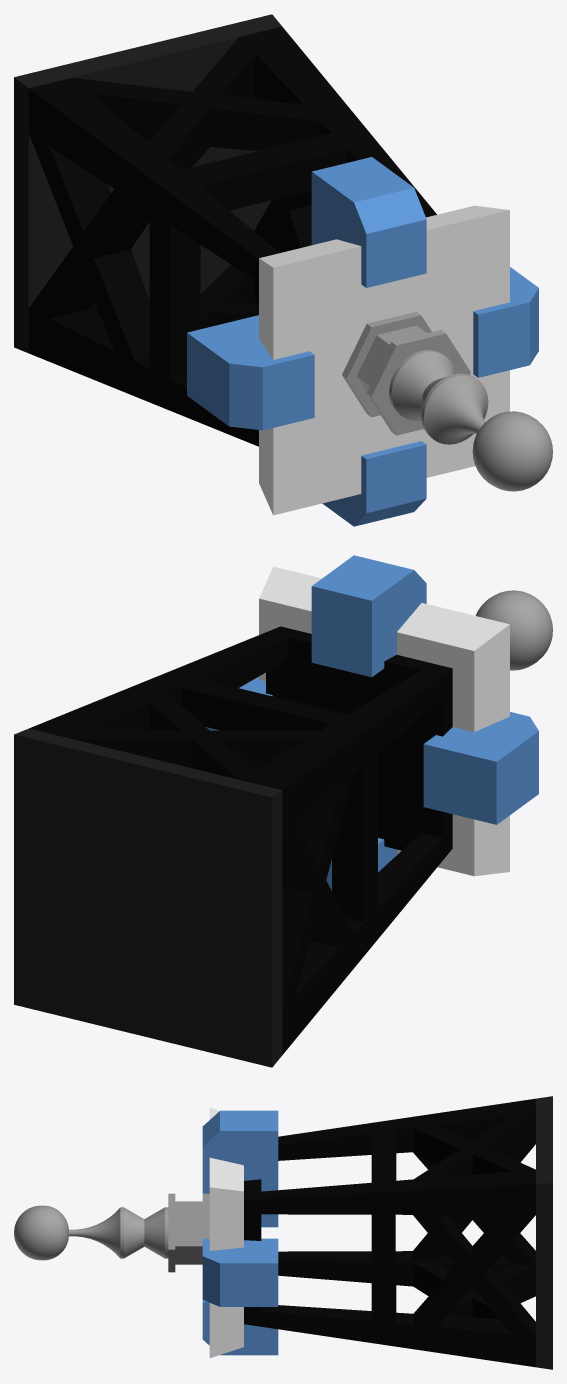
Rendered from Electric Tower V2.fbx.
The picture shows the model from 3 angles, top to bottom: view 1: azimuth 30°, elevation 25°; view 2: azimuth 150°, elevation 25°; view 3: azimuth 270°, elevation 25°; orthographic projection. The views are drawn at different scales.
Visible parts, largest first — view 1: Body1, Body2, Body17, Body8, Body10, Body12, Body13, Body11; view 2: Body17, Body1, Body2, Body10, Body12, Body8; view 3: Body1, Body8, Body11, Body2, Body10, Body17, Body13, Body12.
Boxes of the visible parts, box(x1,y1,x2,y2) form: Body1: box(28, 26, 436, 446); Body2: box(259, 205, 509, 515); Body17: box(14, 14, 281, 353); Body8: box(342, 311, 552, 491); Body10: box(311, 157, 426, 287); Body12: box(187, 315, 314, 430); Body13: box(322, 441, 426, 526); Body11: box(473, 267, 538, 377); Body17: box(14, 728, 282, 1067); Body1: box(29, 626, 452, 1054); Body2: box(259, 566, 509, 876); Body10: box(311, 555, 426, 677); Body12: box(423, 712, 538, 824); Body8: box(475, 590, 552, 670); Body1: box(244, 1098, 535, 1367); Body8: box(14, 1193, 209, 1272); Body11: box(202, 1238, 278, 1306); Body2: box(209, 1107, 243, 1358); Body10: box(202, 1110, 278, 1183); Body17: box(536, 1096, 552, 1369); Body13: box(202, 1300, 278, 1355); Body12: box(202, 1184, 278, 1227).
Size of the model in its own units: 72 by 72 by 157.
